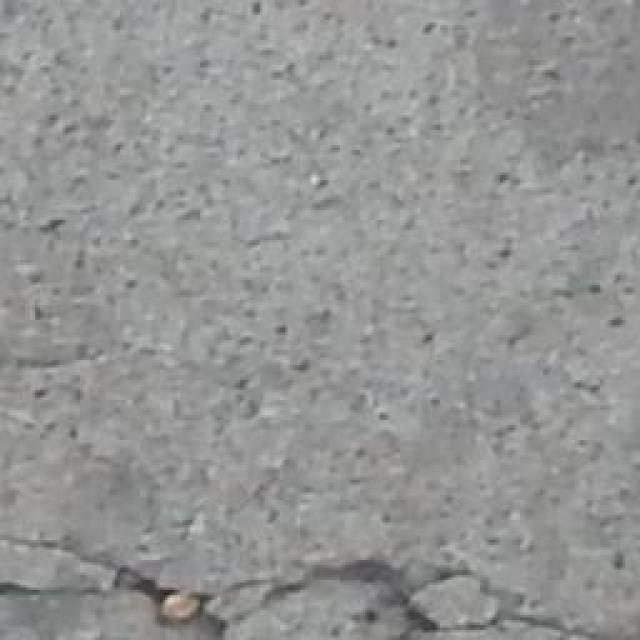concrete-crack: (0, 524, 598, 640)
